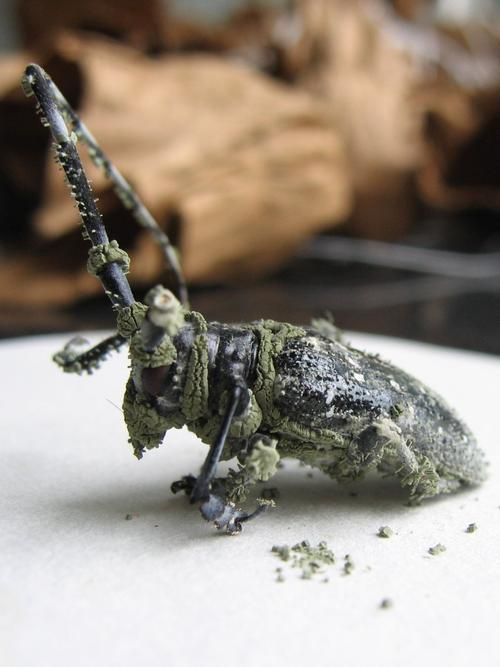Curculionidae: (20, 62, 489, 536)
